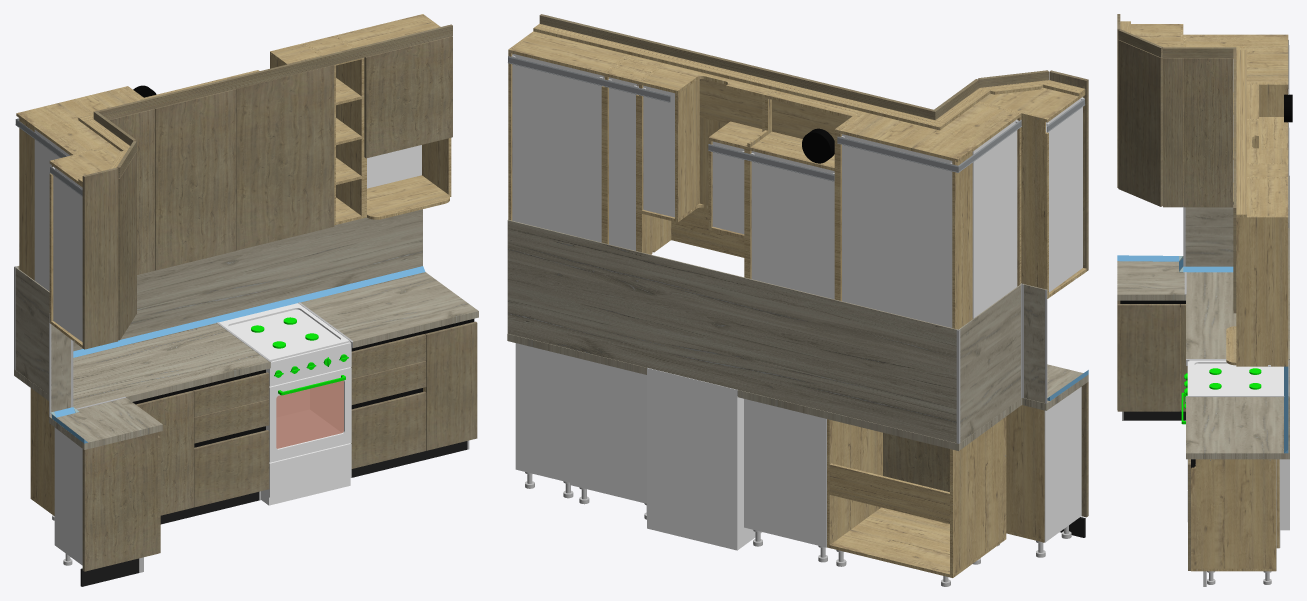
3 renders of one model, left to right at view 1: azimuth 30°, elevation 25°; view 2: azimuth 150°, elevation 25°; view 3: azimuth 270°, elevation 25°, orthographic. The views are drawn at different scales.
Visible parts, largest first — view 1: node_0042, node_0132, node_0141, node_0043, node_0029, node_0151, node_0045, node_0118, node_0086, node_0060, node_0099, node_0115 (+35 smaller); view 2: node_0042, node_0107, node_0148, node_0070, node_0092, node_0136, node_0053, node_0106, node_0041, node_0081, node_0038, node_0115 (+45 smaller); view 3: node_0079, node_0145, node_0102, node_0030, node_0121, node_0045, node_0043, node_0120, node_0041, node_0109, node_0044, node_0068 (+27 smaller).
Boxes of the visible parts, x1,y1,x2,y2 form: node_0042: (16, 209, 422, 351); node_0132: (236, 65, 334, 250); node_0141: (155, 89, 236, 270); node_0043: (14, 323, 270, 408); node_0029: (82, 432, 157, 571); node_0151: (364, 36, 452, 158); node_0045: (300, 272, 478, 348); node_0118: (82, 167, 118, 349); node_0086: (425, 321, 477, 450); node_0060: (351, 391, 426, 468); node_0099: (194, 430, 269, 507); node_0115: (52, 166, 82, 341); node_0042: (507, 220, 957, 442); node_0107: (842, 134, 952, 327); node_0148: (512, 53, 604, 242); node_0070: (649, 370, 735, 549); node_0092: (744, 399, 826, 547); node_0136: (751, 151, 834, 299); node_0053: (570, 356, 646, 503); node_0106: (972, 119, 1017, 318); node_0041: (958, 284, 1021, 442); node_0081: (515, 343, 569, 482); node_0038: (950, 417, 1006, 574); node_0115: (1046, 97, 1082, 292); node_0079: (1191, 459, 1276, 568); node_0145: (1236, 216, 1288, 366); node_0102: (1183, 58, 1232, 207); node_0030: (1117, 304, 1180, 411); node_0121: (1118, 40, 1162, 206); node_0045: (1186, 397, 1289, 459); node_0043: (1186, 270, 1289, 359); node_0120: (1163, 58, 1183, 207); node_0041: (1185, 205, 1233, 266); node_0109: (1186, 34, 1288, 82); node_0044: (1117, 261, 1185, 300); node_0068: (1194, 363, 1276, 394).
Bounding box in the file's own units: 2.64 × 2.41 × 1.01.
Materials: 22 (5 with a texture image).
